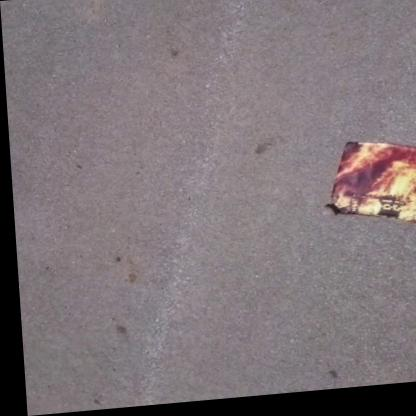fire-poster: (316, 140, 416, 241)
